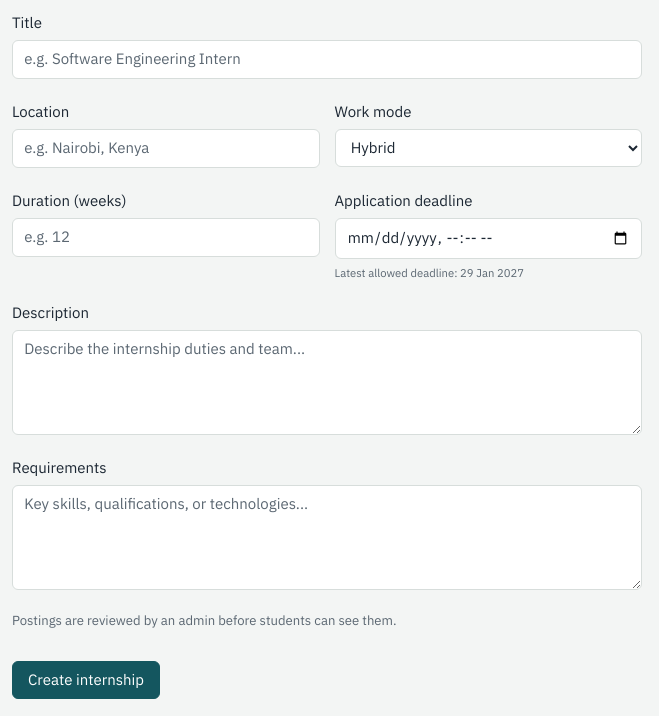
Test: InternshipForm Component › validates future deadline for new postings
Type "Data Engineer Intern" into the field labelled "Title".
click(327, 59); type("Data Engineer Intern")  # box 12,40 -> 642,79
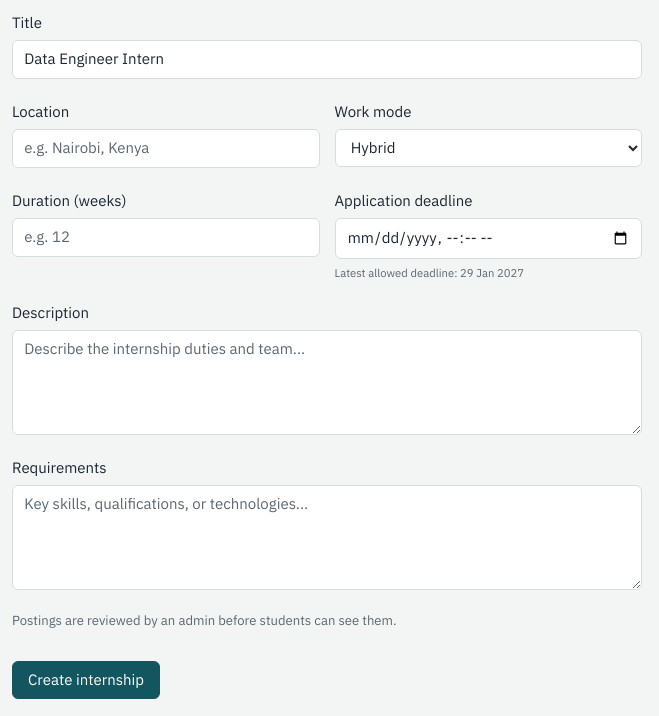
Type "Nairobi" into the field labelled "Location".
click(166, 148); type("Nairobi")  # box 12,129 -> 320,168
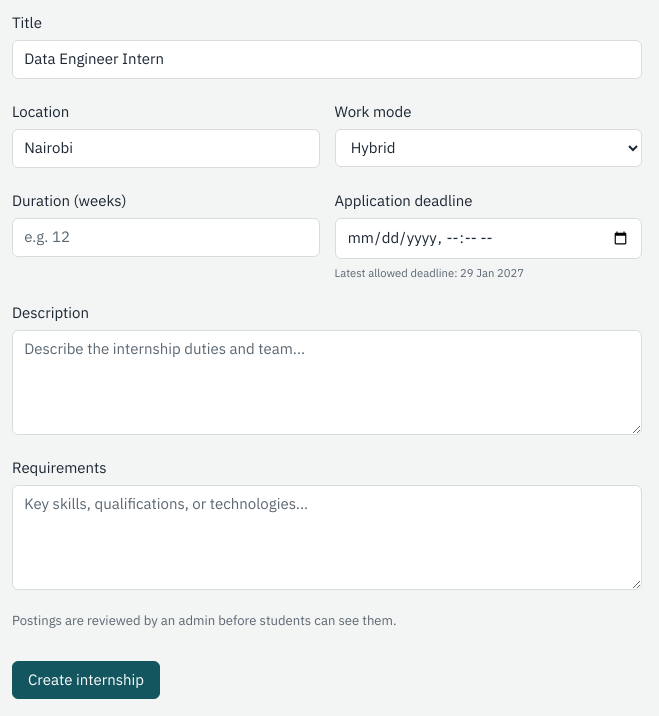
Type "ETL pipelines and SQL models." into the text box labelled "Description".
click(327, 382); type("ETL pipelines and SQL models.")  # box 12,330 -> 642,435
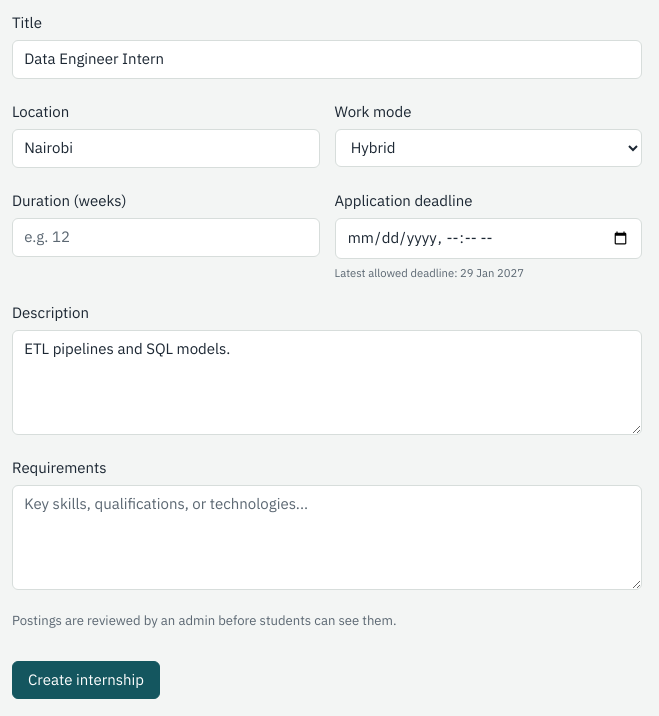
Type "Python and Postgres." into the text box labelled "Requirements".
click(327, 537); type("Python and Postgres.")  # box 12,485 -> 642,590
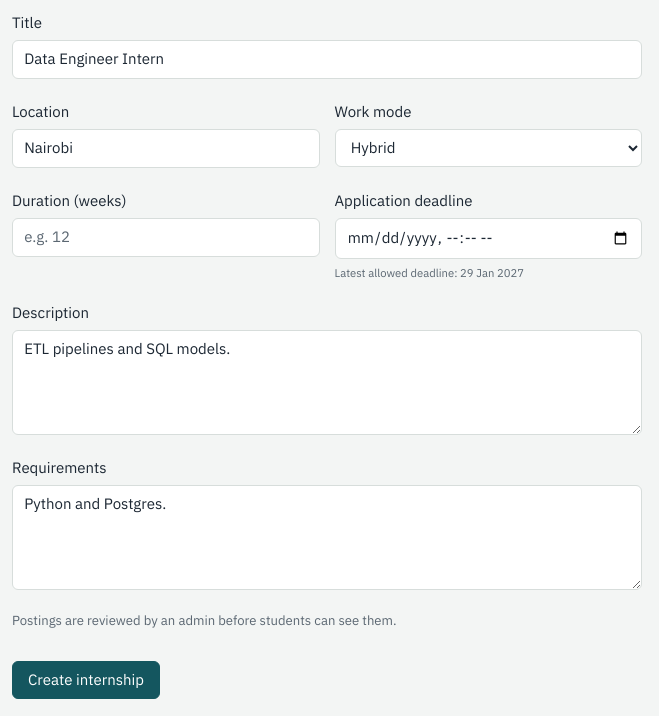
Note: Set a past deadline
Type "2020-01-01T12:00" into the field labelled "Application deadline".
click(488, 238); type("2020-01-01T12:00")  # box 334,218 -> 642,259
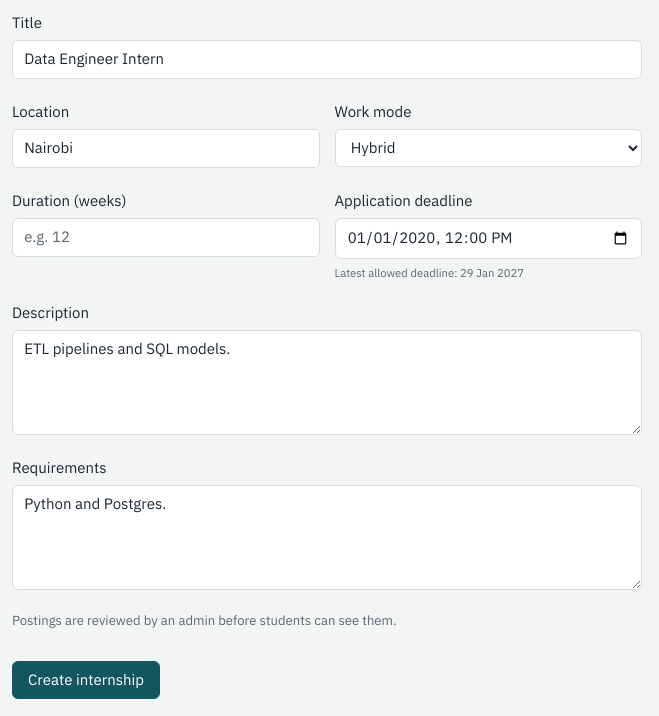
Click the button "Create internship".
click(86, 680)  # box 12,661 -> 160,699
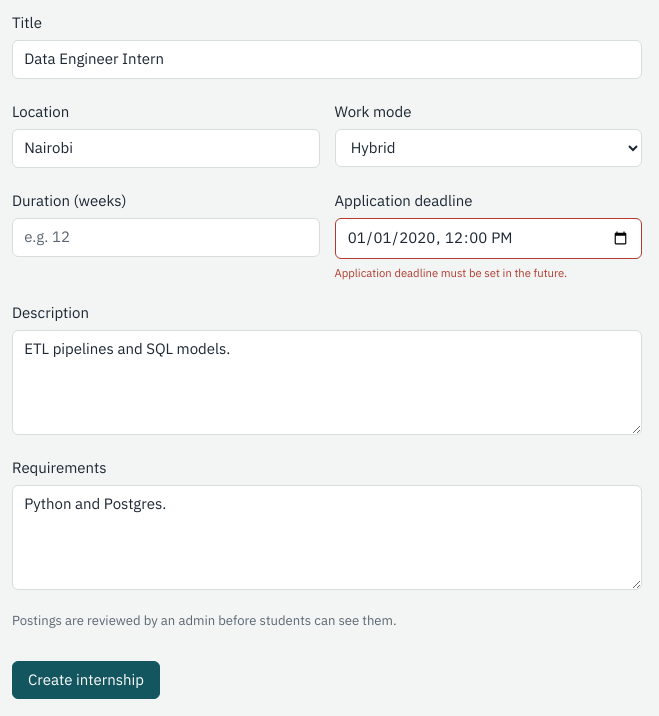
Now the text "Application deadline must be set in the future." is shown, box 334,264 -> 567,280
